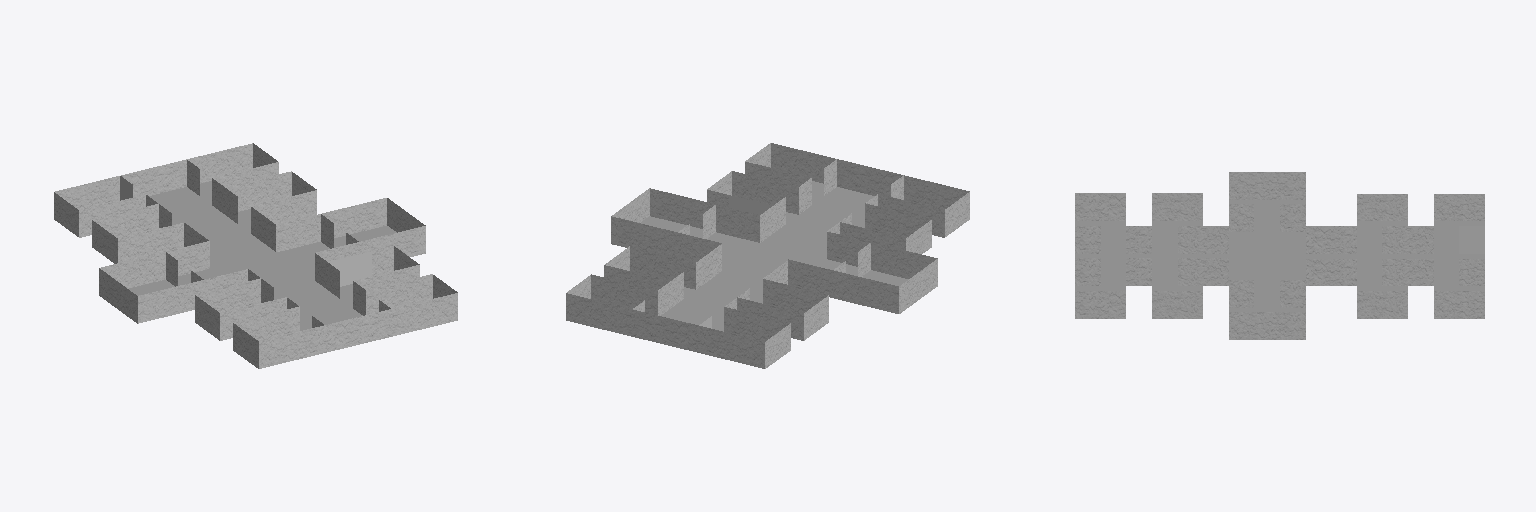
The picture shows the model from 3 angles: view 1: azimuth 30°, elevation 25°; view 2: azimuth 150°, elevation 25°; view 3: azimuth 270°, elevation 25°; orthographic projection.
Visible parts, largest first — view 1: Plane; view 2: Plane; view 3: Plane.
Boxes of the visible parts, x1,y1,x2,y2 form: Plane: [54, 143, 457, 368]; Plane: [566, 143, 969, 368]; Plane: [1075, 172, 1484, 339].
Bounding box in the file's own units: 12.77 × 1.18 × 15.72.
Materials: 2 (1 with a texture image).